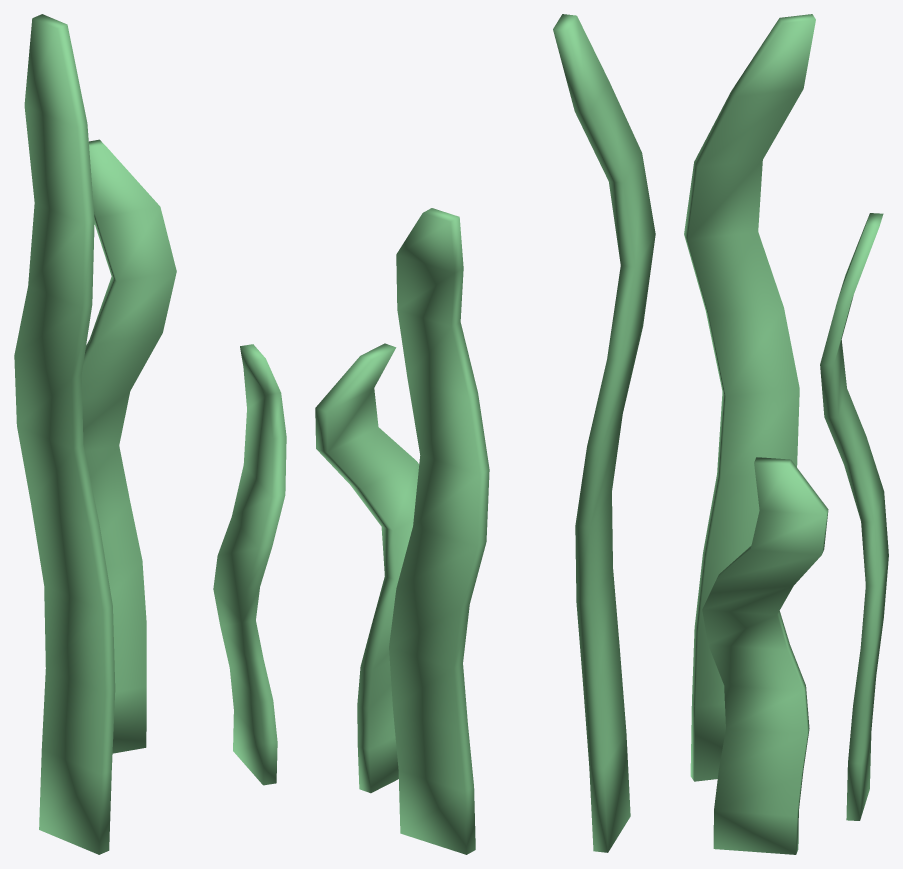
Rendered from Small3.fbx.
3 renders of one model, left to right at view 1: azimuth 30°, elevation 25°; view 2: azimuth 150°, elevation 25°; view 3: azimuth 270°, elevation 25°, orthographic. The views are drawn at different scales.
Parts seen in each view (by area): view 1: Small3_EXPORT; view 2: Small3_EXPORT; view 3: Small3_EXPORT.
Boxes of the visible parts, box(x1,y1,x2,y2) form: Small3_EXPORT: box(14, 14, 286, 854); Small3_EXPORT: box(315, 14, 655, 854); Small3_EXPORT: box(684, 14, 888, 854).
Size of the model in its own units: 0.9742 by 2.75 by 0.672.
